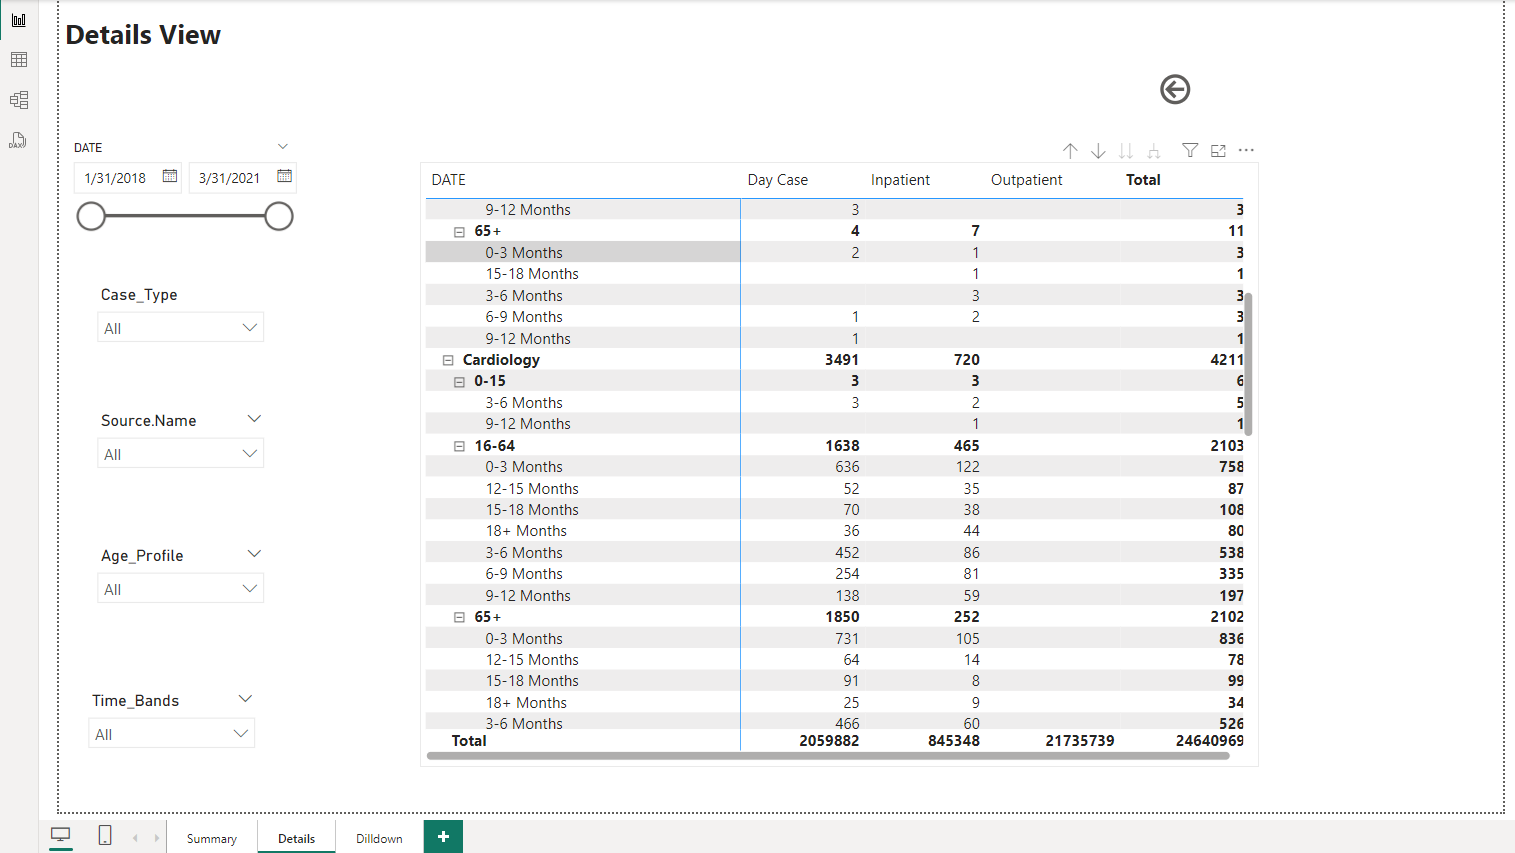

What the dashboard file says about the page in this screenshot:
{"tool":"powerbi","page":{"name":"Details","canvas":[1280,720],"ordinal":1},"visuals":[{"type":"slicer","fields":{"Values":["All_Data.DATE"]},"box":[0,120,216,104],"z":0},{"type":"slicer","fields":{"Values":["All_Data.Case_Type"]},"box":[24,248,168,72],"z":1000},{"type":"slicer","fields":{"Values":["All_Data.Source.Name"]},"box":[24,360,168,72],"z":2000},{"type":"textbox","box":[0,8,200,72],"z":3000},{"type":"slicer","fields":{"Values":["All_Data.Age_Profile"]},"box":[24,480,168,72],"z":4000},{"type":"slicer","fields":{"Values":["All_Data.Time_Bands"]},"box":[16,608,168,72],"z":5000},{"type":"pivotTable","fields":{"Rows":["All_Data.DATE","All_Data.Specialty_Name","All_Data.Age_Profile","All_Data.Time_Bands"],"Columns":["All_Data.Case_Type"],"Values":["Sum(All_Data.Total)"]},"box":[320,144,744,536],"z":6000},{"type":"actionButton","box":[971.7,61.3,63.2,36],"z":6001}]}

Visuals, with their boxes on the page's 1280x720 design canvas (x1, y1, x2, y2). These are canvas units, not pixel positions in the 1515x853 screenshot, which may show the page scaled, cropped or inside an application window:
slicer - All_Data.DATE: (0,120,216,224)
slicer - All_Data.Case_Type: (24,248,192,320)
slicer - All_Data.Source.Name: (24,360,192,432)
textbox: (0,8,200,80)
slicer - All_Data.Age_Profile: (24,480,192,552)
slicer - All_Data.Time_Bands: (16,608,184,680)
pivotTable - All_Data.DATE x All_Data.Specialty_Name: (320,144,1064,680)
actionButton: (972,61,1035,97)
